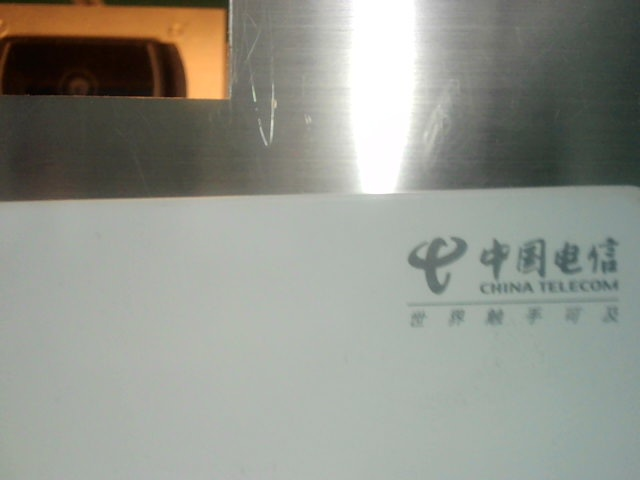AB_ChinaTelecom: (392, 226, 630, 334)
